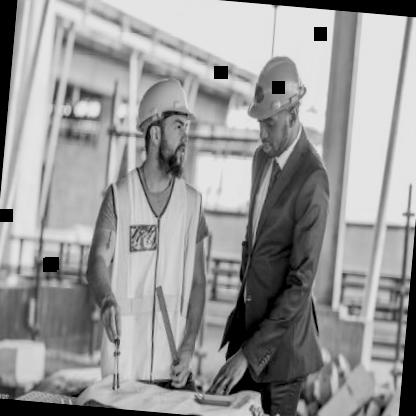helmet: (128, 66, 204, 180), (243, 43, 314, 160)
